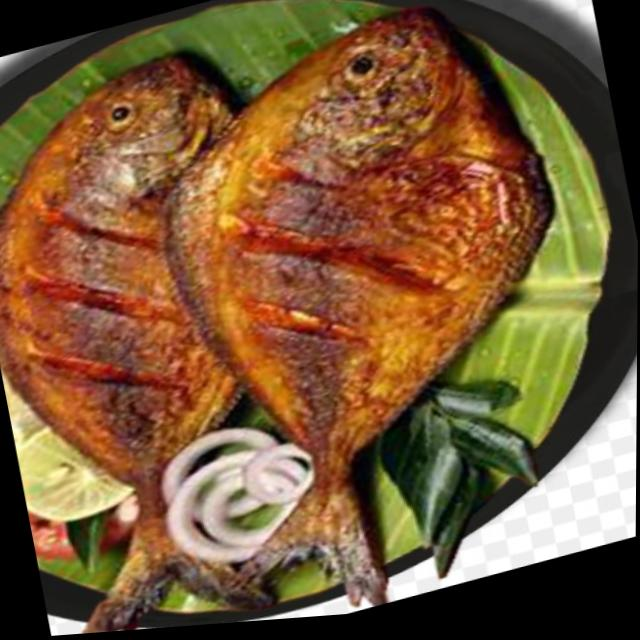FISH FRY: (0, 6, 559, 633)
